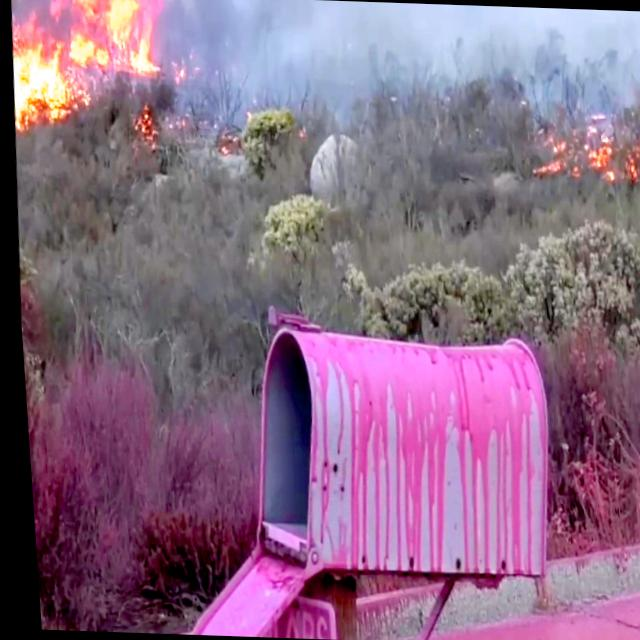fire: (8, 0, 184, 97)
